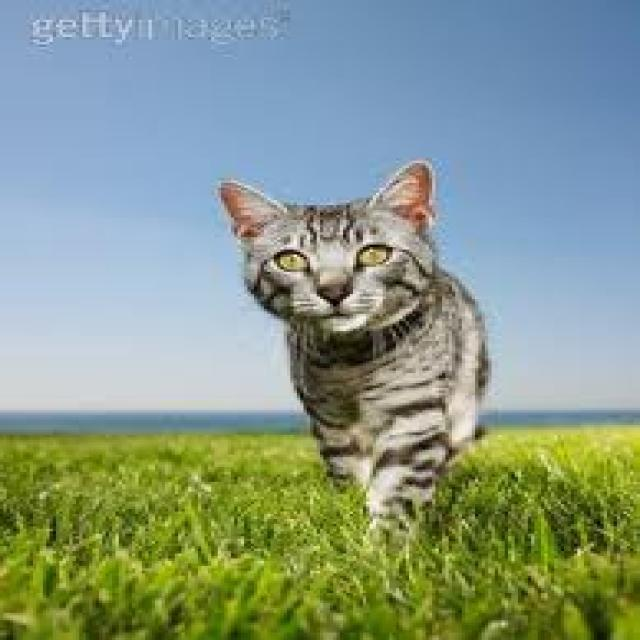Egyptian_Mau: (209, 160, 454, 347)
